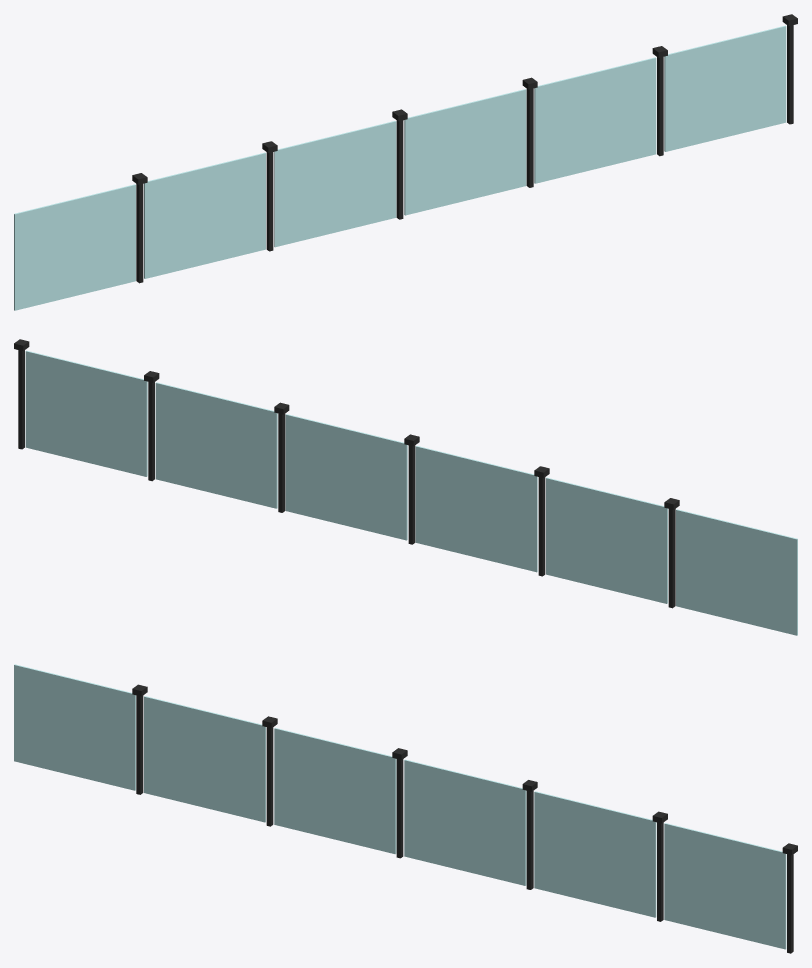
The model's file is Balcony.004.fbx.
3 renders of one model, top to bottom at view 1: azimuth 30°, elevation 25°; view 2: azimuth 150°, elevation 25°; view 3: azimuth 330°, elevation 25°, orthographic.
Parts seen in each view (by area): view 1: Balcony.004; view 2: Balcony.004; view 3: Balcony.004.
Boxes of the visible parts, x1=… form: Balcony.004: x1=14, y1=14, x2=797, y2=310; Balcony.004: x1=14, y1=339, x2=797, y2=635; Balcony.004: x1=14, y1=664, x2=797, y2=953.
Size of the model in its own units: 3382 by 437 by 44.44.
